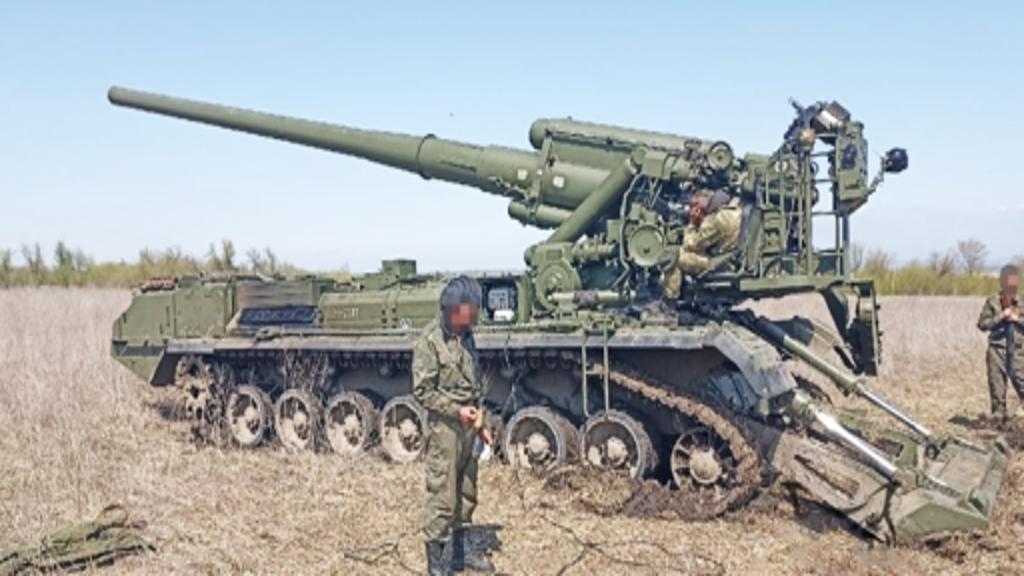ART: (98, 65, 994, 546)
